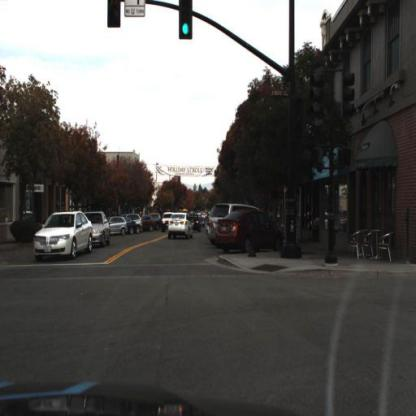car: (32, 208, 94, 265), (215, 211, 283, 254), (204, 204, 261, 237), (85, 212, 110, 248), (167, 211, 193, 237), (106, 215, 131, 239), (109, 217, 129, 233), (163, 212, 175, 235), (191, 213, 202, 237), (125, 215, 138, 233), (132, 214, 142, 232), (152, 213, 162, 231), (141, 215, 152, 231)
trafficLight-Green: (181, 2, 193, 41)
